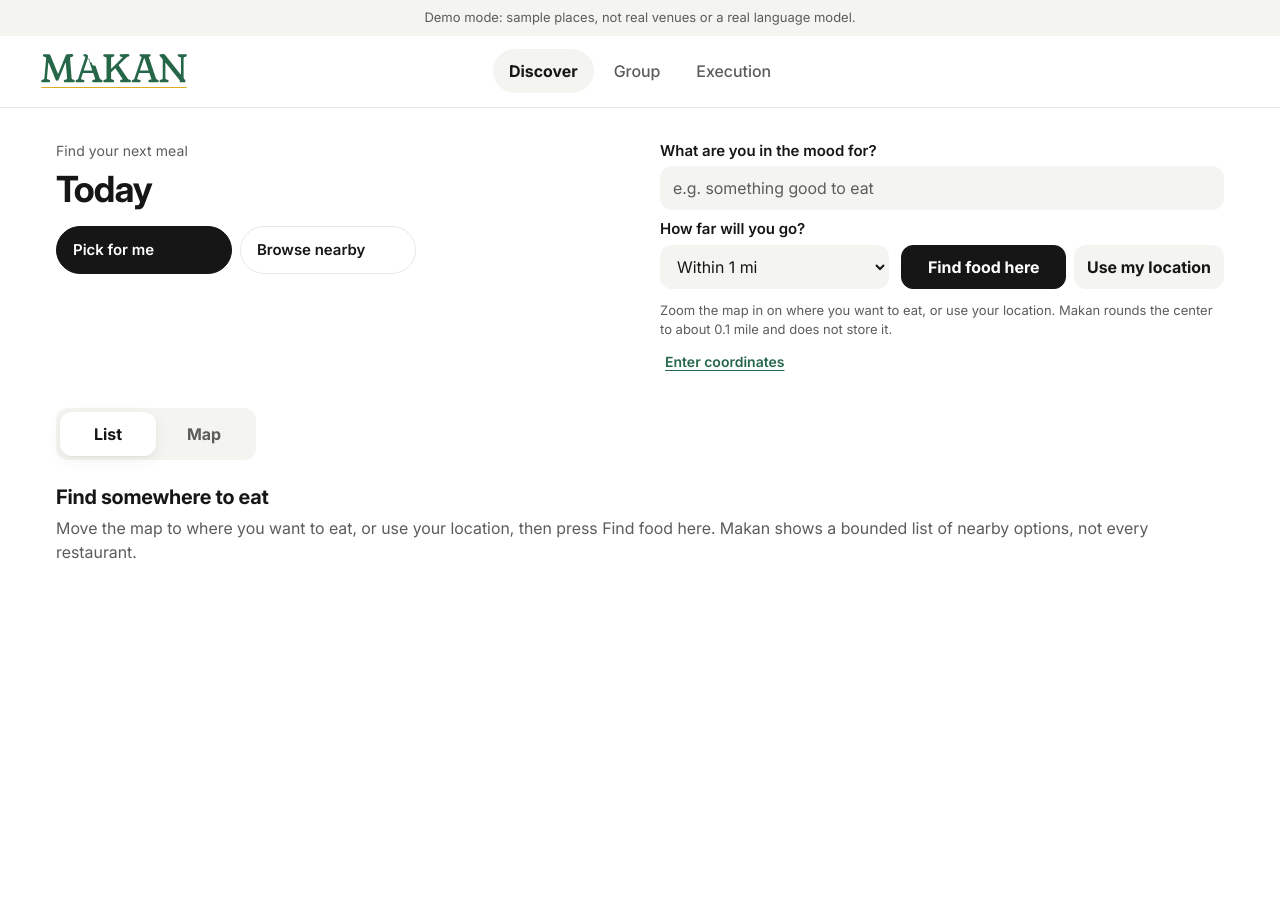
Test: starting a group › falls back to typed coordinates when the browser will not say where the host is
Click the button "Group" at (637, 71), box [598, 49, 676, 93]
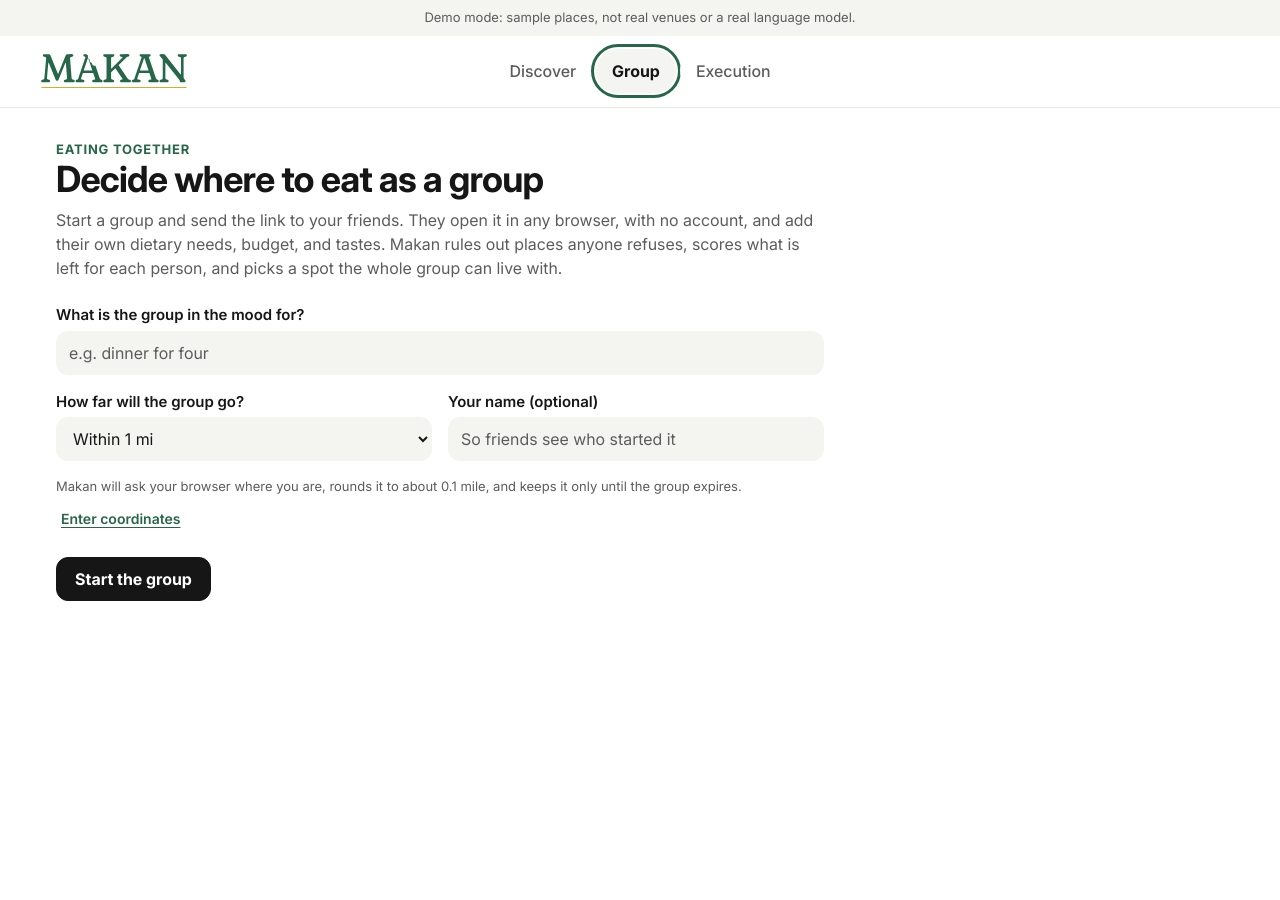
Type "pizza" into the field labelled "What is the group in the mood for?" at (440, 353), box [56, 331, 824, 375]
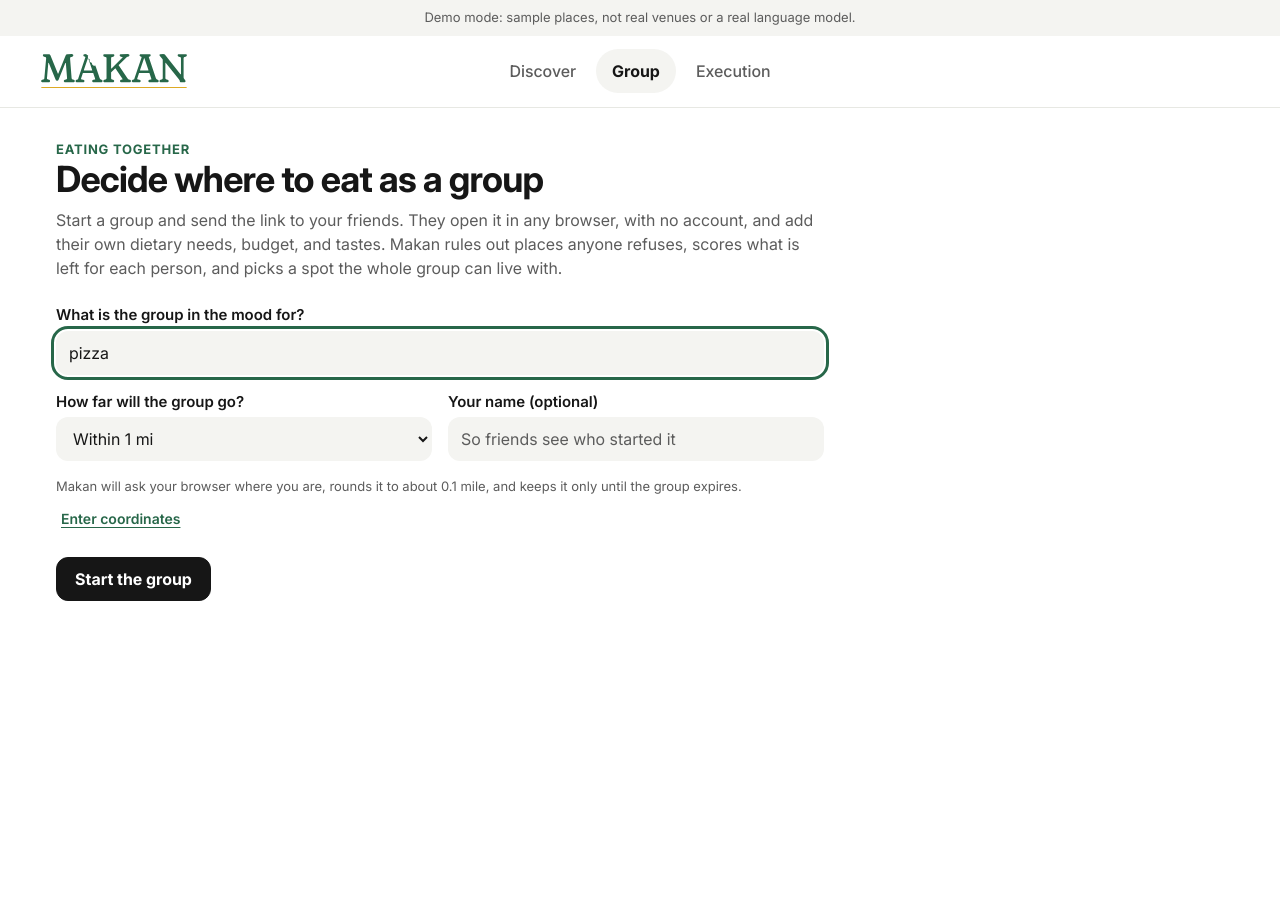
Click the button "Start the group" at (133, 579), box [56, 557, 211, 601]
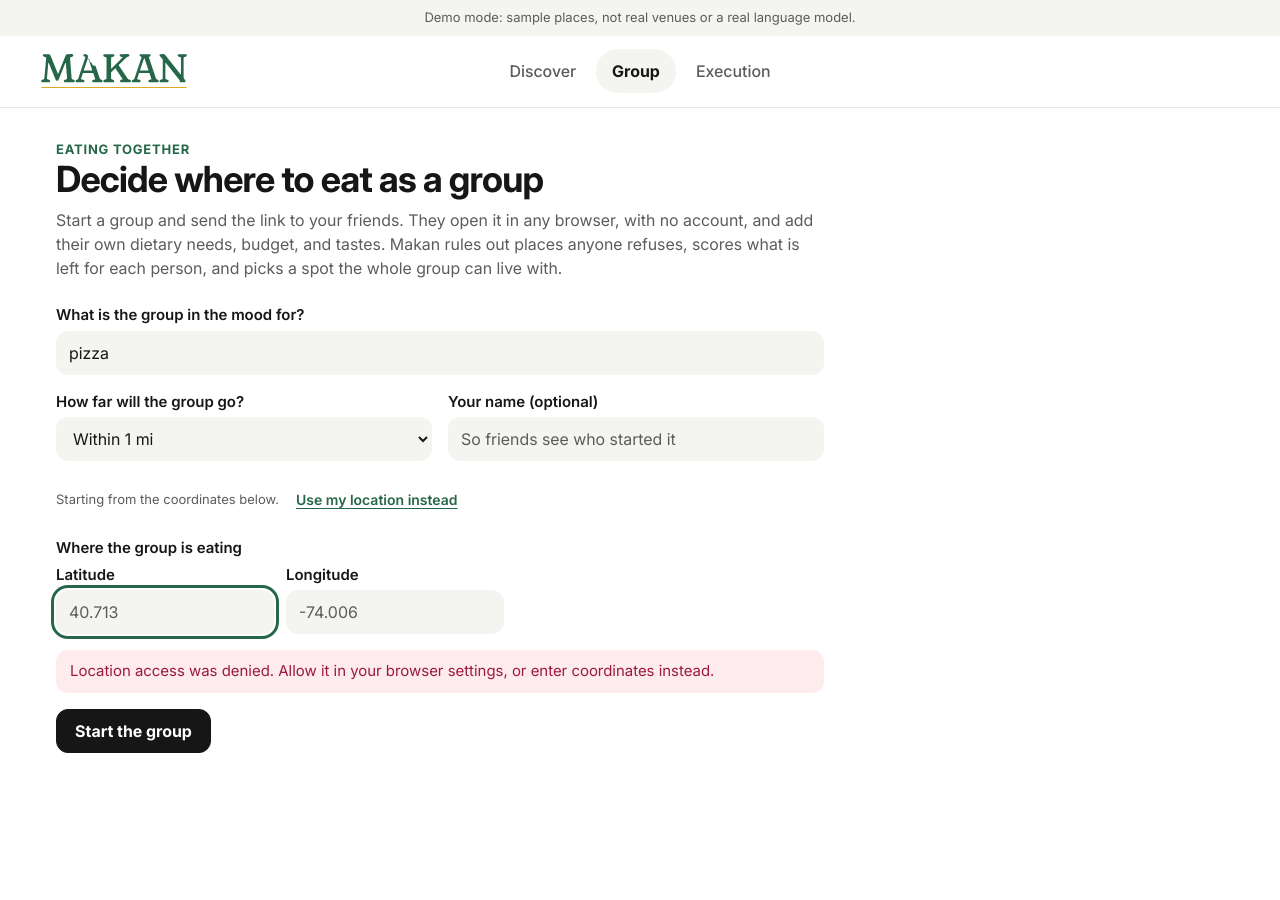
Result: the message shows "Location access was denied" at [70, 661, 714, 680]
Type "3.1481" into the field labelled "Latitude" at (165, 612), box [56, 590, 274, 634]
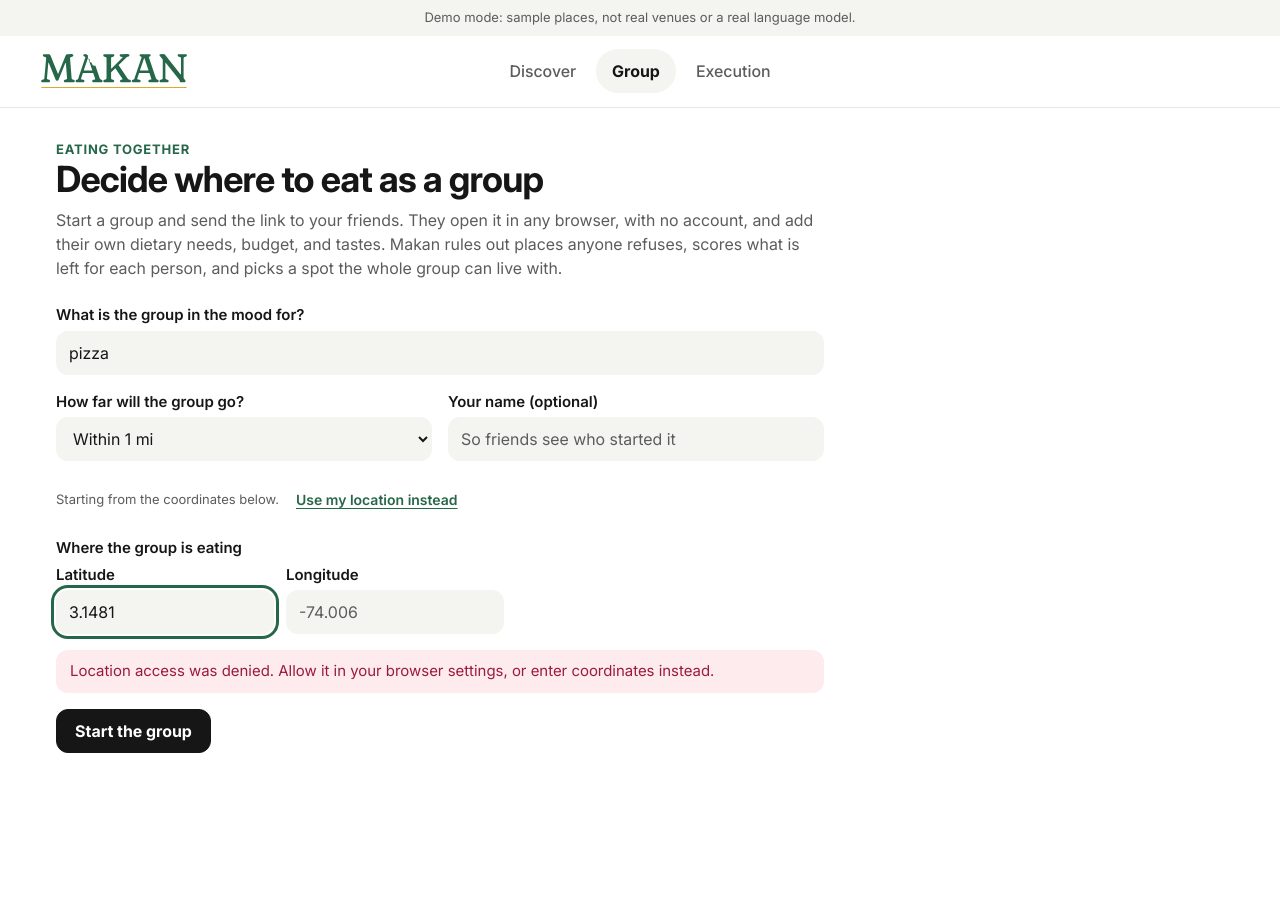
Type "101.6953" into the field labelled "Longitude" at (395, 612), box [286, 590, 504, 634]
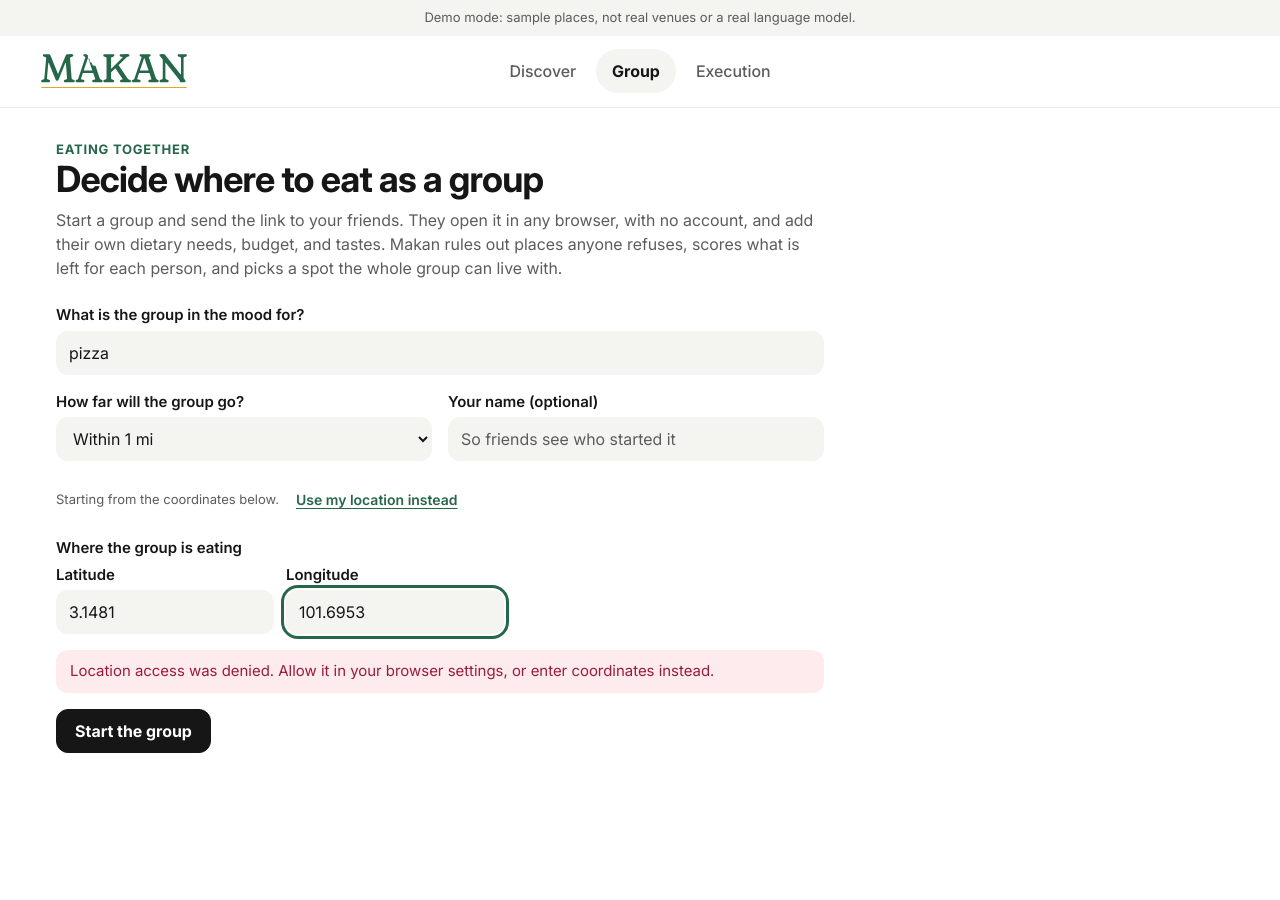
Click the button "Start the group" at (133, 731), box [56, 709, 211, 753]
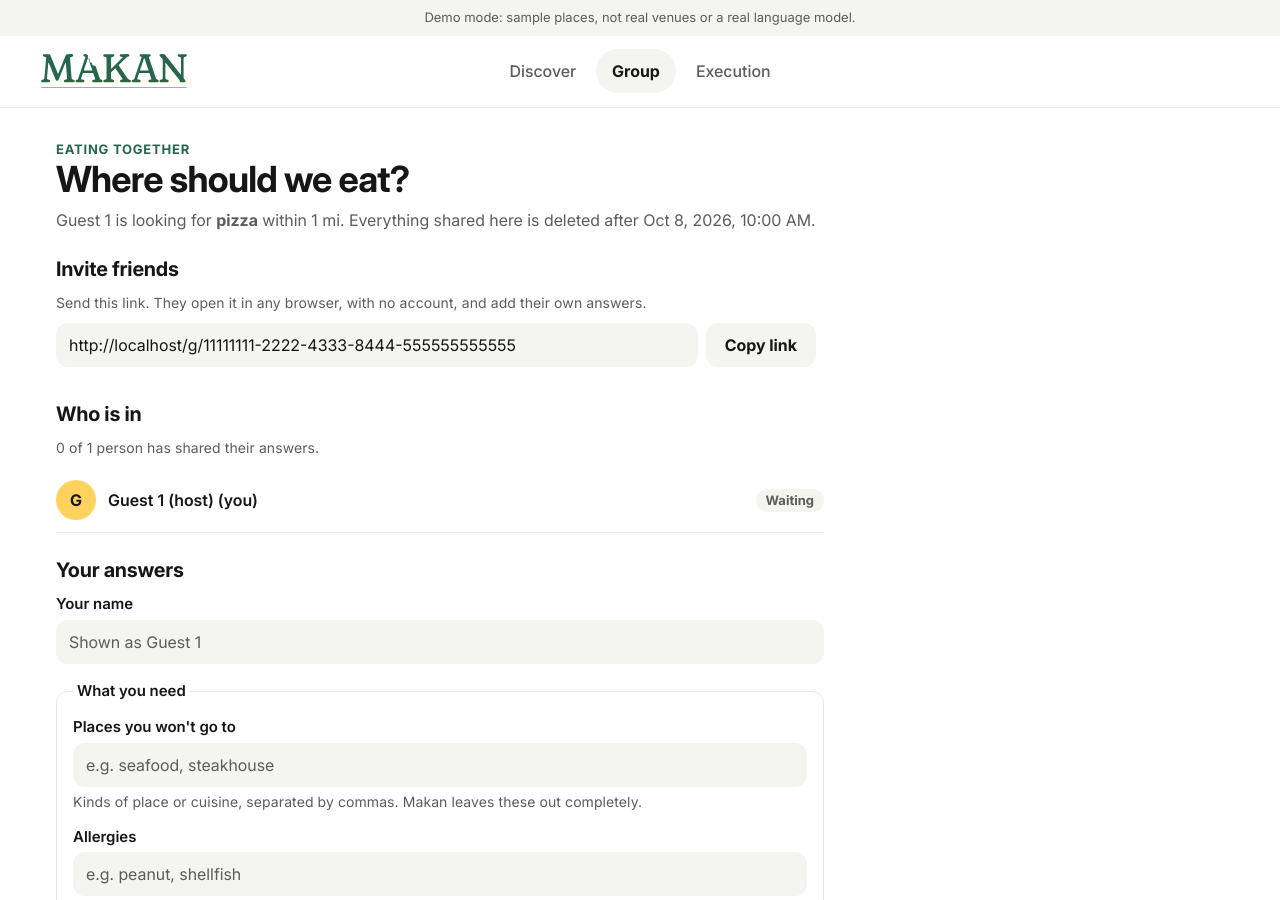
Result: the heading "Where should we eat?" is shown at [56, 157, 409, 201]
